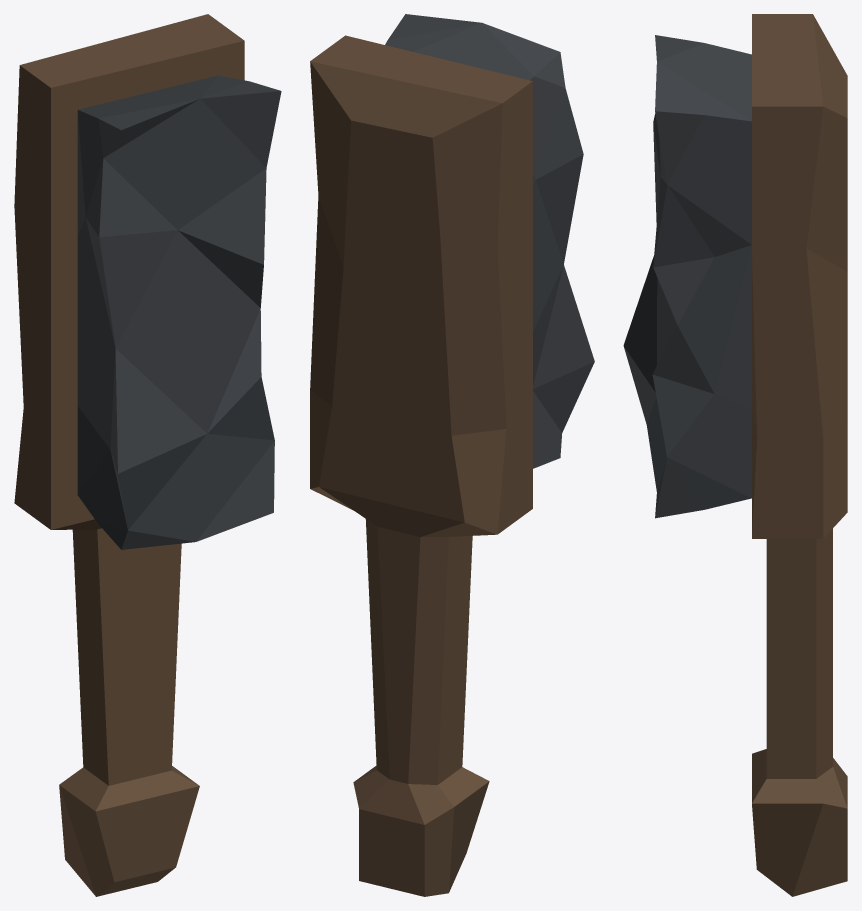
The model's file is kingdom_SM_Item_Wire_Brush_01.gltf.
3 views of the same model, side by side, from view 1: azimuth 30°, elevation 25°; view 2: azimuth 150°, elevation 25°; view 3: azimuth 270°, elevation 25° (orthographic). The views are drawn at different scales.
Visible parts, largest first — view 1: SM_Item_Wire_Brush_01; view 2: SM_Item_Wire_Brush_01; view 3: SM_Item_Wire_Brush_01.
Part boxes in pixels (box(x1,y1,x2,y2)): SM_Item_Wire_Brush_01: box(14, 14, 281, 896); SM_Item_Wire_Brush_01: box(310, 14, 594, 896); SM_Item_Wire_Brush_01: box(623, 14, 847, 896).
Bounding box in the file's own units: 0.0878 × 0.3601 × 0.0889.
1 material, 1 textured.
